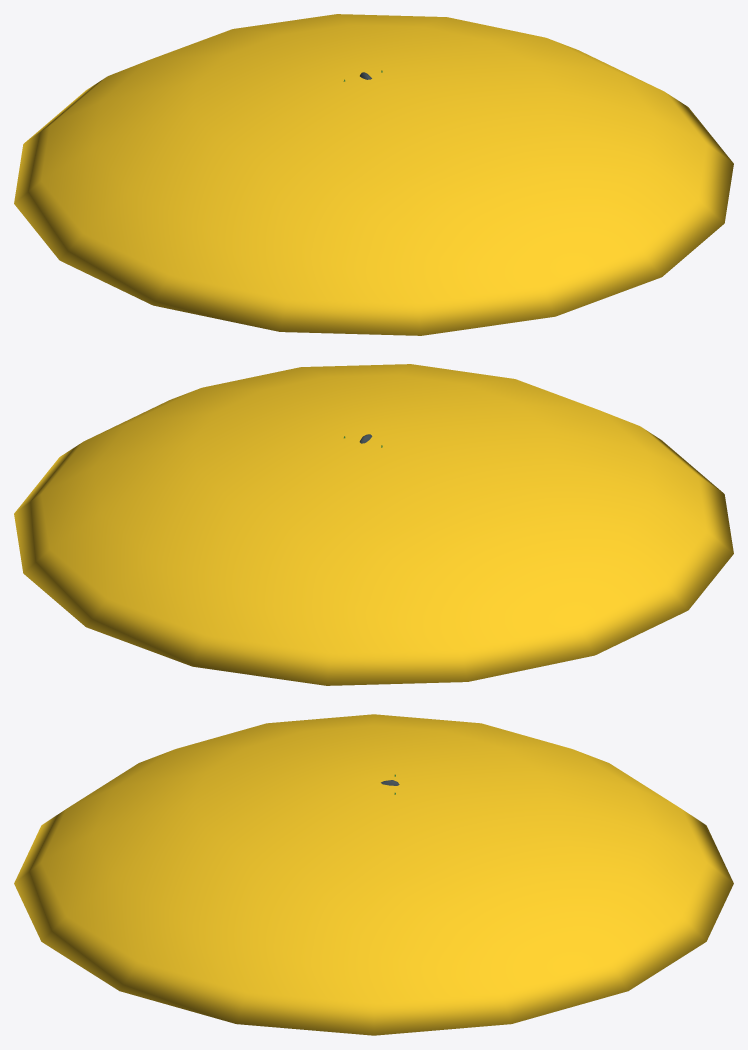
Rendered from AssetsExtrasBarco.fbx.
3 views of the same model, one above another, from view 1: azimuth 30°, elevation 25°; view 2: azimuth 150°, elevation 25°; view 3: azimuth 270°, elevation 25° (orthographic).
Visible parts, largest first — view 1: Ilha; view 2: Ilha; view 3: Ilha.
Part boxes in pixels (x1,y1,x2,y2): Ilha: (14, 14, 733, 335); Ilha: (14, 364, 733, 685); Ilha: (14, 714, 733, 1035).
Bounding box in the file's own units: 18.98 × 3.44 × 18.98.
